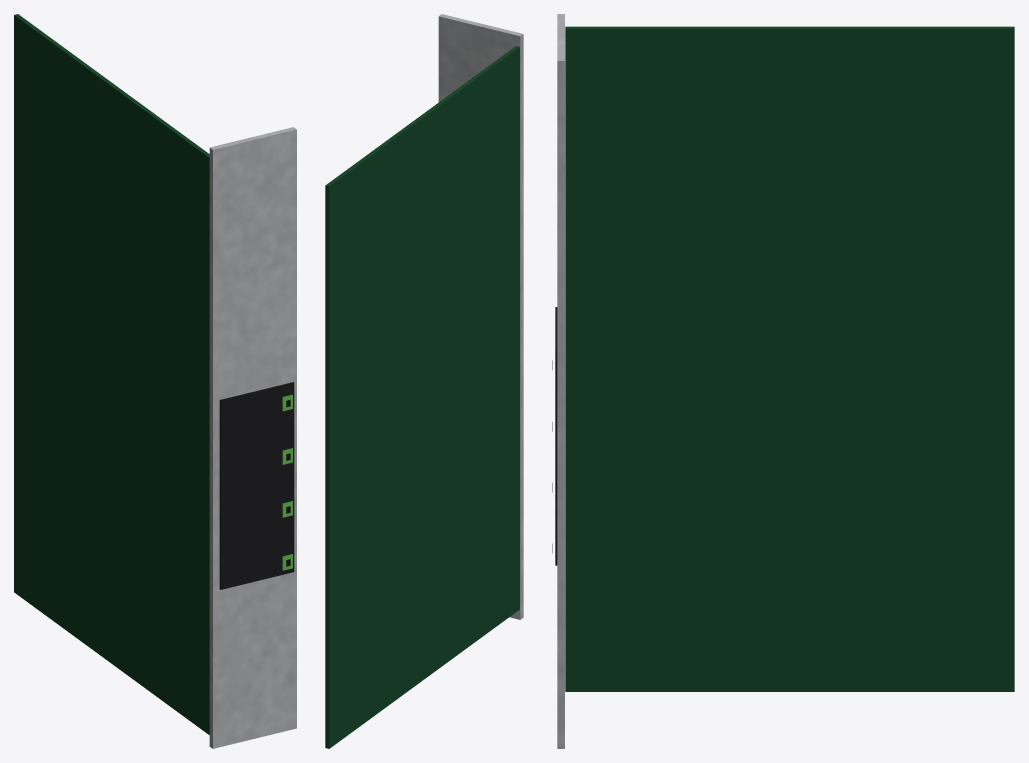
Rendered from X550-T2-FH.far.glb.
The picture shows the model from 3 angles, left to right: view 1: azimuth 30°, elevation 25°; view 2: azimuth 150°, elevation 25°; view 3: azimuth 270°, elevation 25°; orthographic projection. The views are drawn at different scales.
Visible parts, largest first — view 1: Card_far; view 2: Card_far; view 3: Card_far.
Part boxes in pixels (x1=…): Card_far: x1=14, y1=14, x2=296, y2=748; Card_far: x1=325, y1=14, x2=523, y2=748; Card_far: x1=555, y1=14, x2=1014, y2=748.
Size of the model in its own units: 0.0146 by 0.0996 by 0.0606.
Materials: 3 (2 with a texture image).
